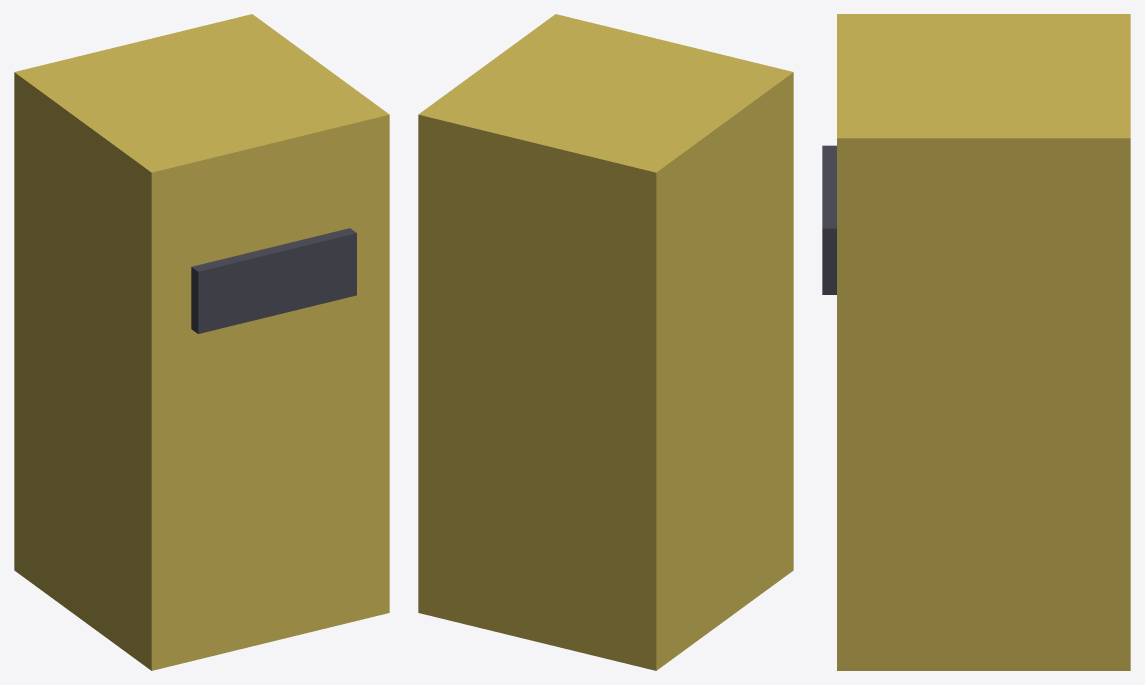
Rendered from runner.glb.
3 views of the same model, side by side, from view 1: azimuth 30°, elevation 25°; view 2: azimuth 150°, elevation 25°; view 3: azimuth 270°, elevation 25° (orthographic). The views are drawn at different scales.
Visible parts, largest first — view 1: body; view 2: body; view 3: body.
Boxes of the visible parts, left/top/right/bottom form: body: left=14, top=14, right=389, bottom=670; body: left=418, top=14, right=793, bottom=670; body: left=822, top=14, right=1130, bottom=670.
Bounding box in the file's own units: 0.375 × 0.75 × 0.3937.
